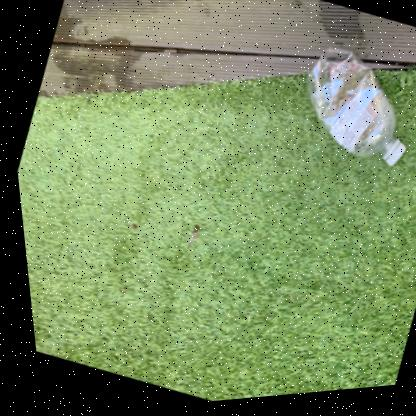Plastic: (305, 51, 402, 171)
